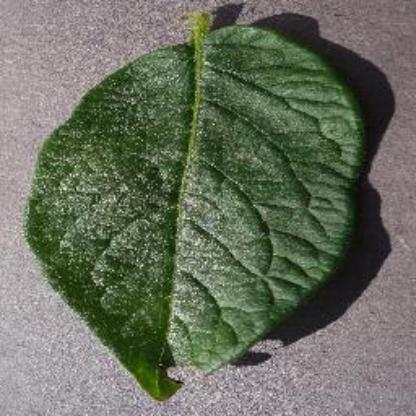Healthy-plant: (21, 6, 374, 402)
